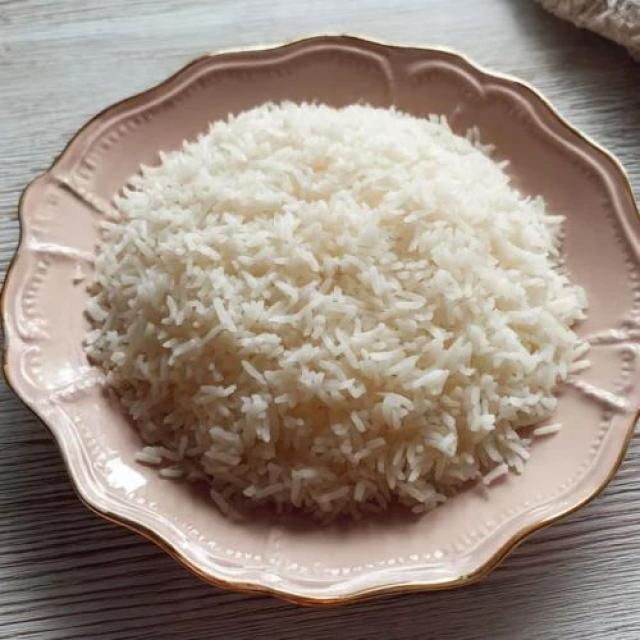rice: (88, 104, 587, 518)
